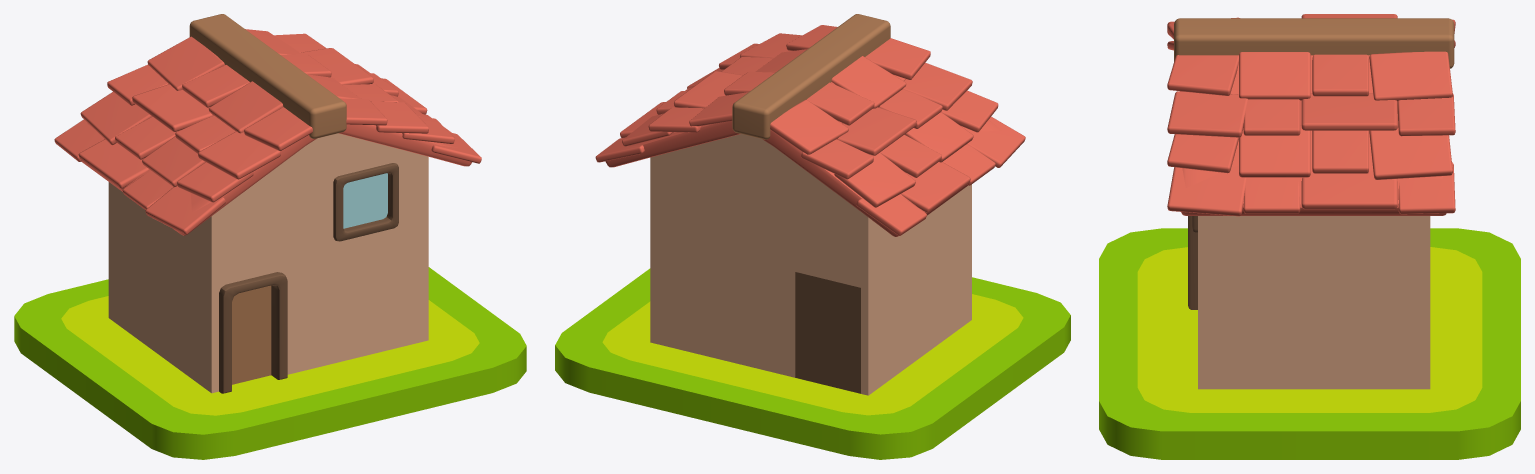
File: house.fbx
3 views of the same model, side by side, from view 1: azimuth 30°, elevation 25°; view 2: azimuth 150°, elevation 25°; view 3: azimuth 270°, elevation 25° (orthographic). The views are drawn at different scales.
Parts seen in each view (by area): view 1: polySurface35, pCube6; view 2: polySurface35, pCube6; view 3: polySurface35, pCube6.
Part boxes in pixels (x1,y1,x2,y2): polySurface35: [54, 14, 481, 393]; pCube6: [14, 267, 526, 459]; polySurface35: [595, 14, 1025, 395]; pCube6: [555, 268, 1070, 459]; polySurface35: [1167, 14, 1455, 389]; pCube6: [1099, 228, 1520, 459].
Size of the model in its own units: 219 by 166 by 192.
